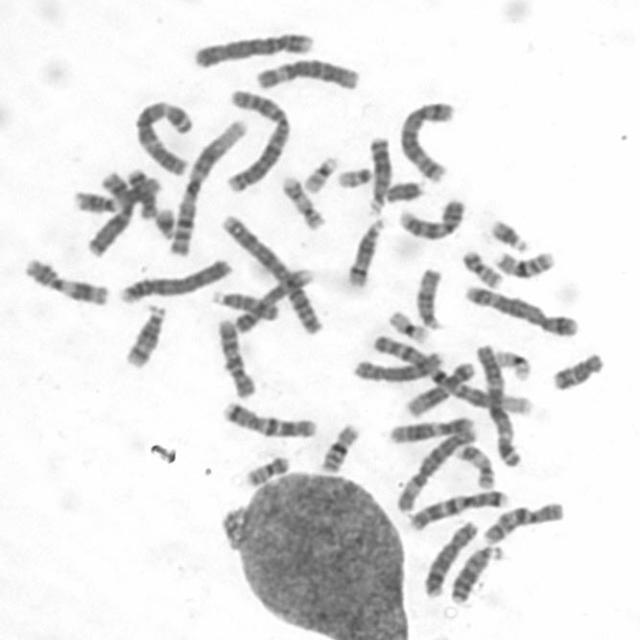A1: (366, 328, 534, 416), (164, 114, 251, 258)
A2: (214, 208, 325, 336), (220, 82, 294, 193)
A3: (471, 339, 524, 468), (130, 93, 196, 177)
B4: (113, 252, 234, 305), (188, 26, 317, 70)
B5: (458, 278, 580, 338), (393, 94, 458, 184)
C10: (477, 495, 567, 546), (211, 312, 258, 399)
C11: (19, 252, 112, 307), (67, 171, 160, 214)
C12: (401, 356, 478, 419), (383, 411, 478, 444)
C6: (390, 417, 478, 515), (250, 52, 362, 92)
C7: (402, 484, 511, 532), (217, 395, 319, 440)
C8: (417, 514, 481, 600), (346, 345, 446, 384)
C9: (228, 262, 315, 334), (392, 192, 468, 241)
D13: (445, 540, 506, 605), (362, 130, 393, 216)
D14: (340, 212, 388, 289), (119, 298, 169, 369)
D15: (207, 285, 282, 321), (411, 261, 446, 331)
E16: (314, 418, 362, 474), (488, 243, 558, 280)
E17: (276, 169, 328, 231), (451, 438, 498, 489)
E18: (547, 346, 606, 392), (123, 163, 158, 221)
F19: (383, 305, 432, 344), (491, 343, 534, 382)
F20: (456, 244, 506, 289), (239, 449, 292, 489)
G21: (484, 213, 530, 253), (150, 201, 178, 240)
G22: (298, 150, 340, 194), (332, 161, 374, 189)
X: (81, 166, 135, 257)
Y: (380, 175, 425, 204)
